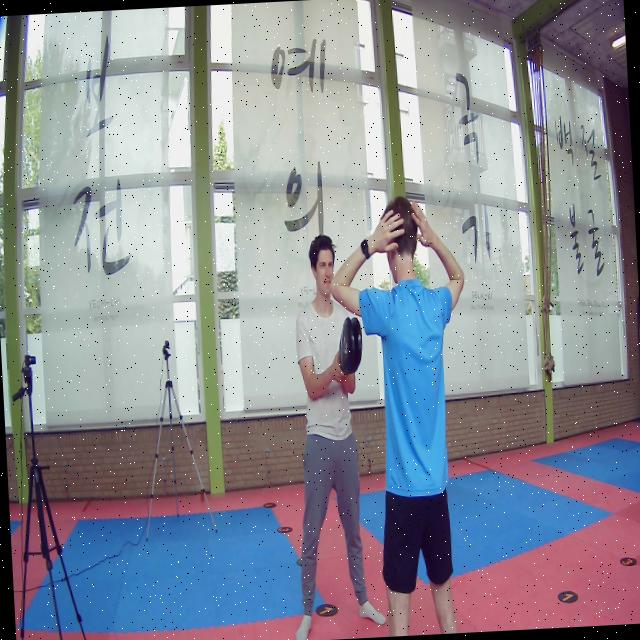paddle: (338, 315, 363, 373)
